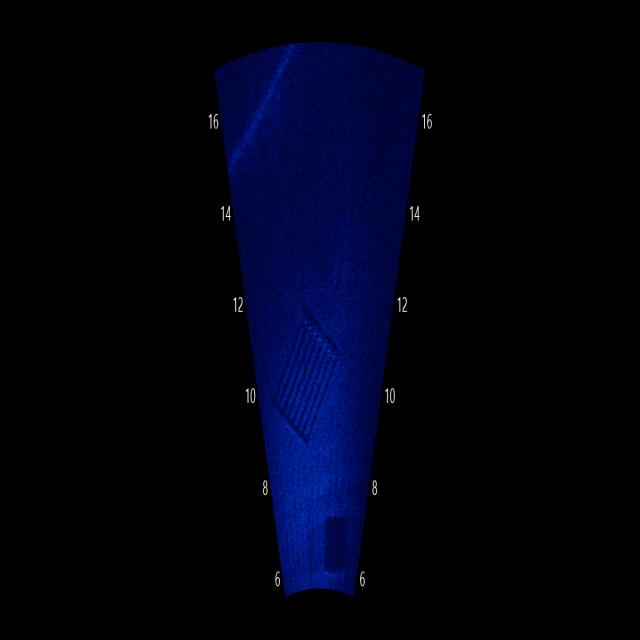square: (270, 296, 348, 450), (318, 504, 354, 584)
